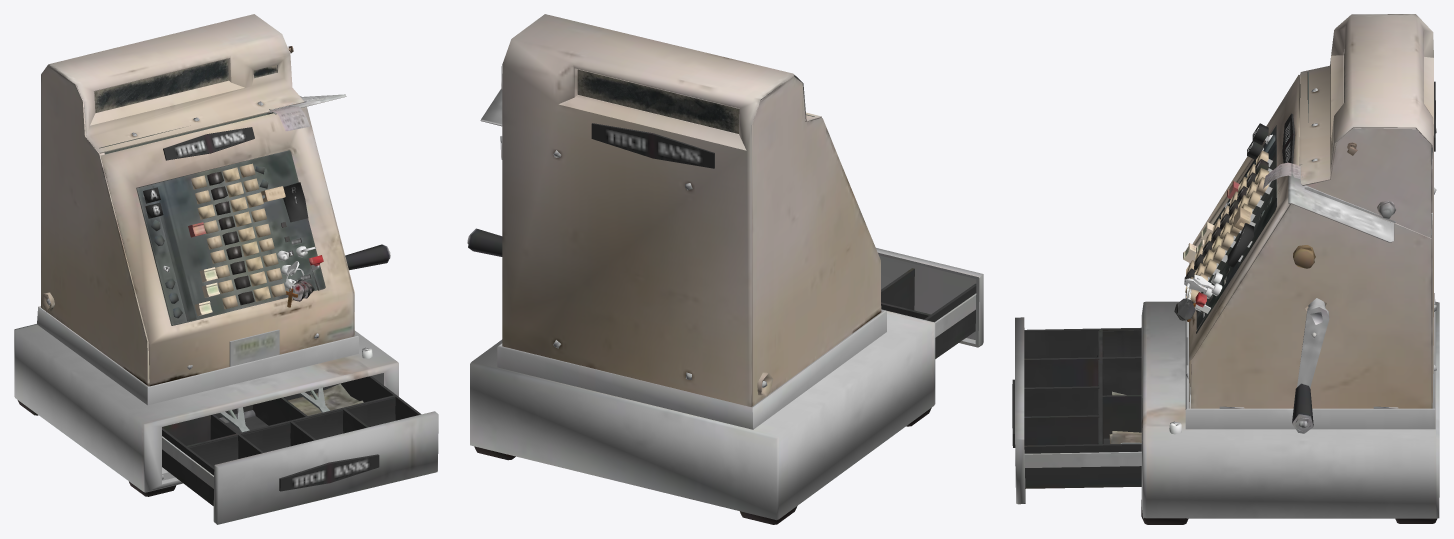
Rendered from CashRegister_01.glb.
The picture shows the model from 3 angles, left to right: view 1: azimuth 30°, elevation 25°; view 2: azimuth 150°, elevation 25°; view 3: azimuth 270°, elevation 25°; orthographic projection. The views are drawn at different scales.
Parts seen in each view (by area): view 1: CashRegister_01_body, CashRegister_011_drawer; view 2: CashRegister_01_body, CashRegister_011_drawer; view 3: CashRegister_01_body, CashRegister_011_drawer.
Boxes of the visible parts, bbox=[...] form: CashRegister_01_body: bbox=[14, 14, 398, 496]; CashRegister_011_drawer: bbox=[162, 376, 438, 524]; CashRegister_01_body: bbox=[467, 14, 935, 524]; CashRegister_011_drawer: bbox=[876, 248, 983, 358]; CashRegister_01_body: bbox=[1141, 14, 1439, 524]; CashRegister_011_drawer: bbox=[1012, 317, 1141, 504].
Size of the model in its own units: 0.5984 by 0.6197 by 0.6227.
2 materials, 2 textured.
